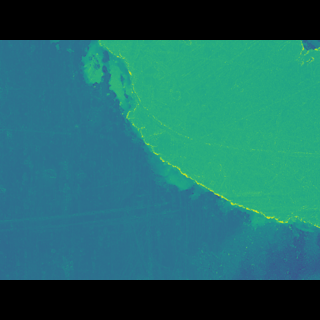Loch: (74, 69, 320, 219)
